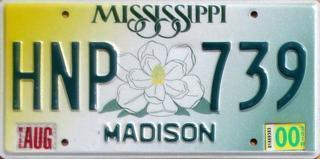placa de veiculo: (4, 3, 314, 158)
